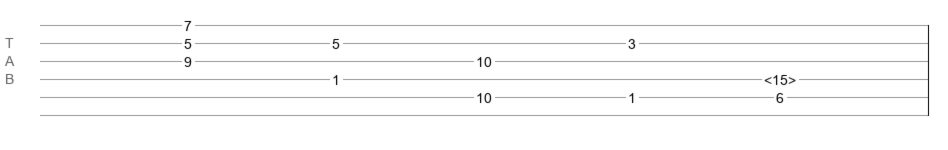1: (332, 72, 340, 82), (628, 90, 636, 100)
10: (476, 90, 492, 100), (476, 54, 492, 64)
3: (628, 36, 636, 46)
5: (184, 36, 192, 46), (332, 36, 340, 46)
6: (776, 90, 784, 100)
7: (184, 18, 192, 28)
9: (184, 54, 192, 64)
harmonic: (764, 72, 796, 82)
